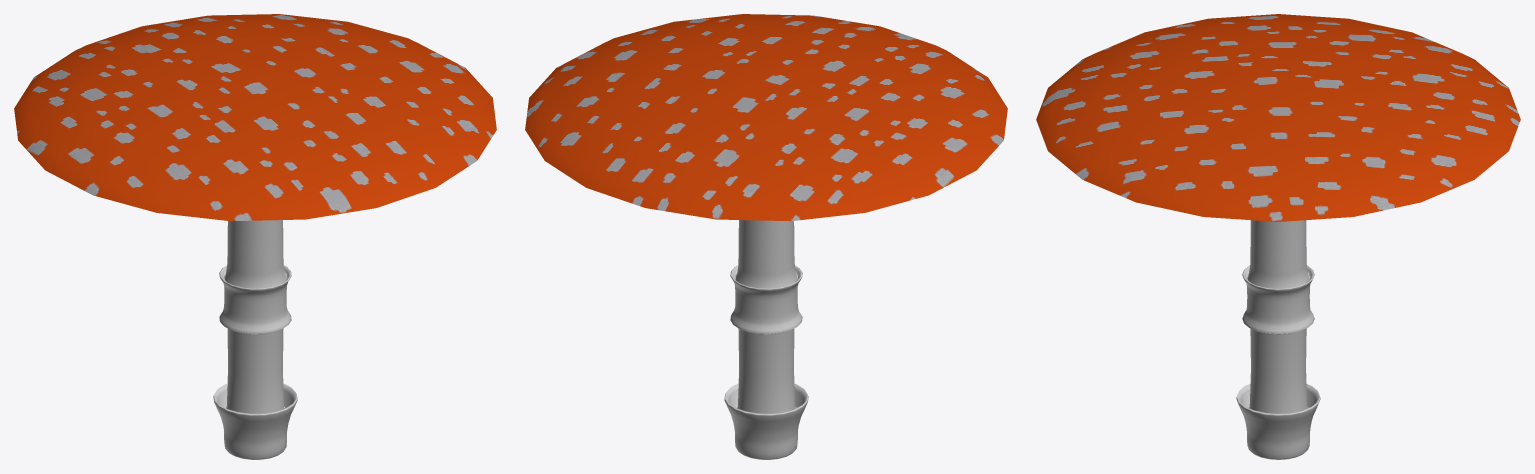
The model's file is mashroom 1.fbx.
The picture shows the model from 3 angles, left to right: view 1: azimuth 30°, elevation 25°; view 2: azimuth 150°, elevation 25°; view 3: azimuth 270°, elevation 25°; orthographic projection.
Parts seen in each view (by area): view 1: pCylinder1; view 2: pCylinder1; view 3: pCylinder1.
Boxes of the visible parts, bbox=[...] form: pCylinder1: bbox=[14, 14, 496, 459]; pCylinder1: bbox=[525, 14, 1007, 459]; pCylinder1: bbox=[1036, 14, 1520, 459].
Bounding box in the file's own units: 3.1 × 2.57 × 3.1.
